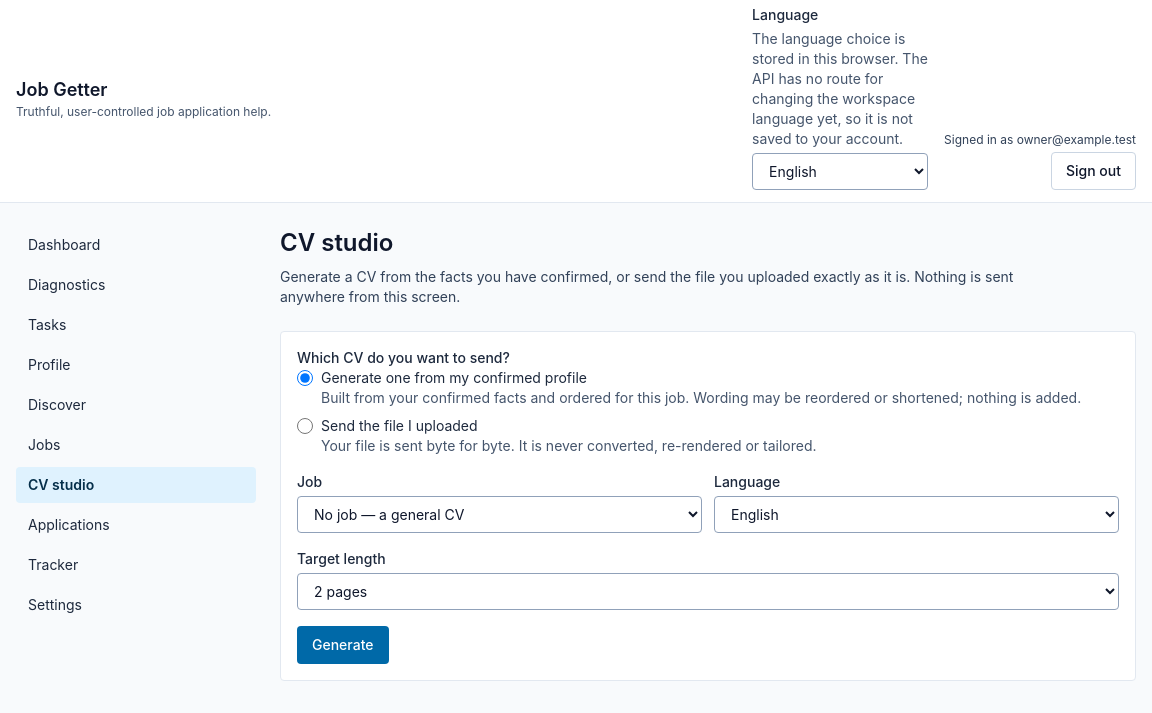
Scenario: the review panel › describes the checks without claiming the CV is accurate
The width and height of the screenshot is (1152, 713).
Expected: the heading "CV studio" is shown, [280,228,393,257]
Click the button "Generate": [343, 645] box [297,626,388,664]
(page scrolled)
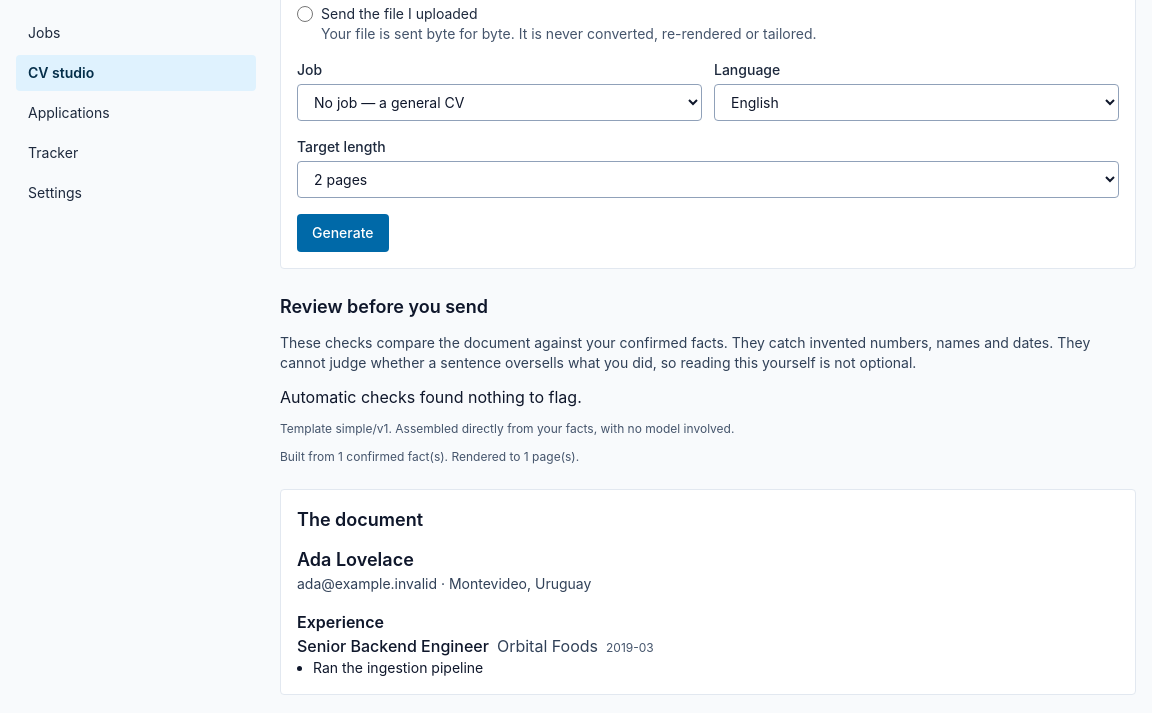
Expected: the text with test id "review-notice" shows "cannot judge whether a sentence oversells", [280,334,1090,371]
Expected: the text with test id "review-notice" shows "reading this yourself is not optional", [280,334,1090,371]
